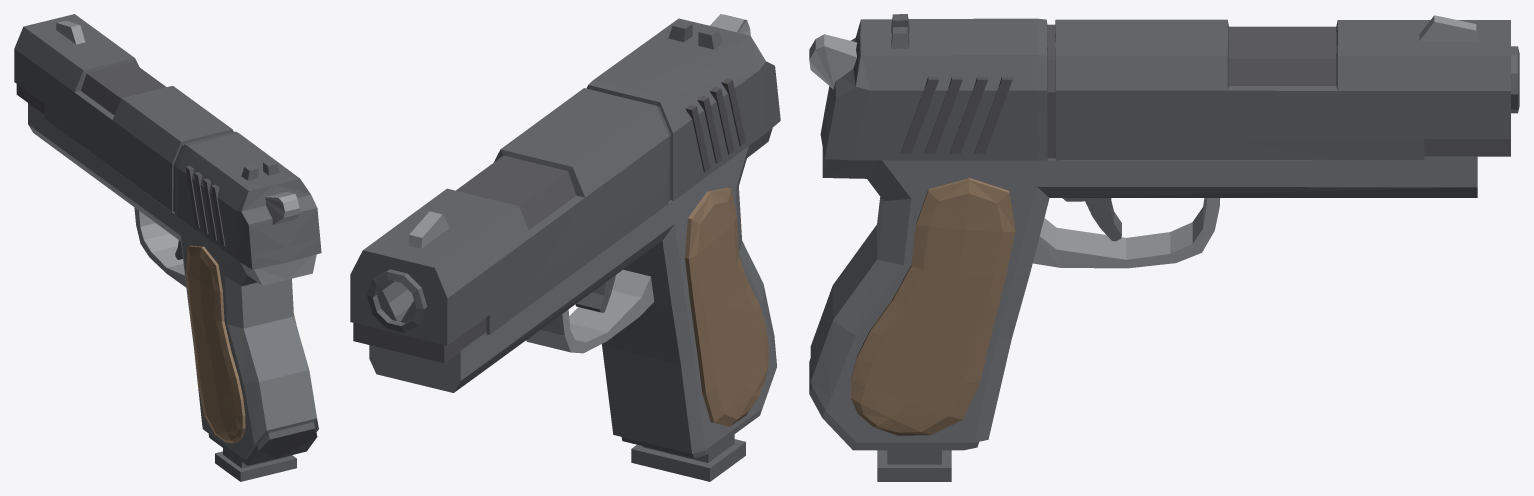
File: pistol_2.glb
3 renders of one model, left to right at view 1: azimuth 30°, elevation 25°; view 2: azimuth 150°, elevation 25°; view 3: azimuth 270°, elevation 25°, orthographic. The views are drawn at different scales.
Parts seen in each view (by area): view 1: charge, body, mag; view 2: charge, body, mag; view 3: charge, body, mag.
Part boxes in pixels (left/top/right/bottom): charge: left=14, top=14, right=321, bottom=269; body: left=28, top=103, right=318, bottom=465; mag: left=215, top=448, right=296, bottom=481; charge: left=350, top=14, right=780, bottom=362; body: left=369, top=128, right=776, bottom=458; mag: left=631, top=434, right=745, bottom=481; charge: left=809, top=14, right=1519, bottom=160; body: left=809, top=148, right=1477, bottom=450; mag: left=877, top=450, right=951, bottom=481.
Size of the model in its own units: 0.0427 by 0.1658 by 0.2406.
